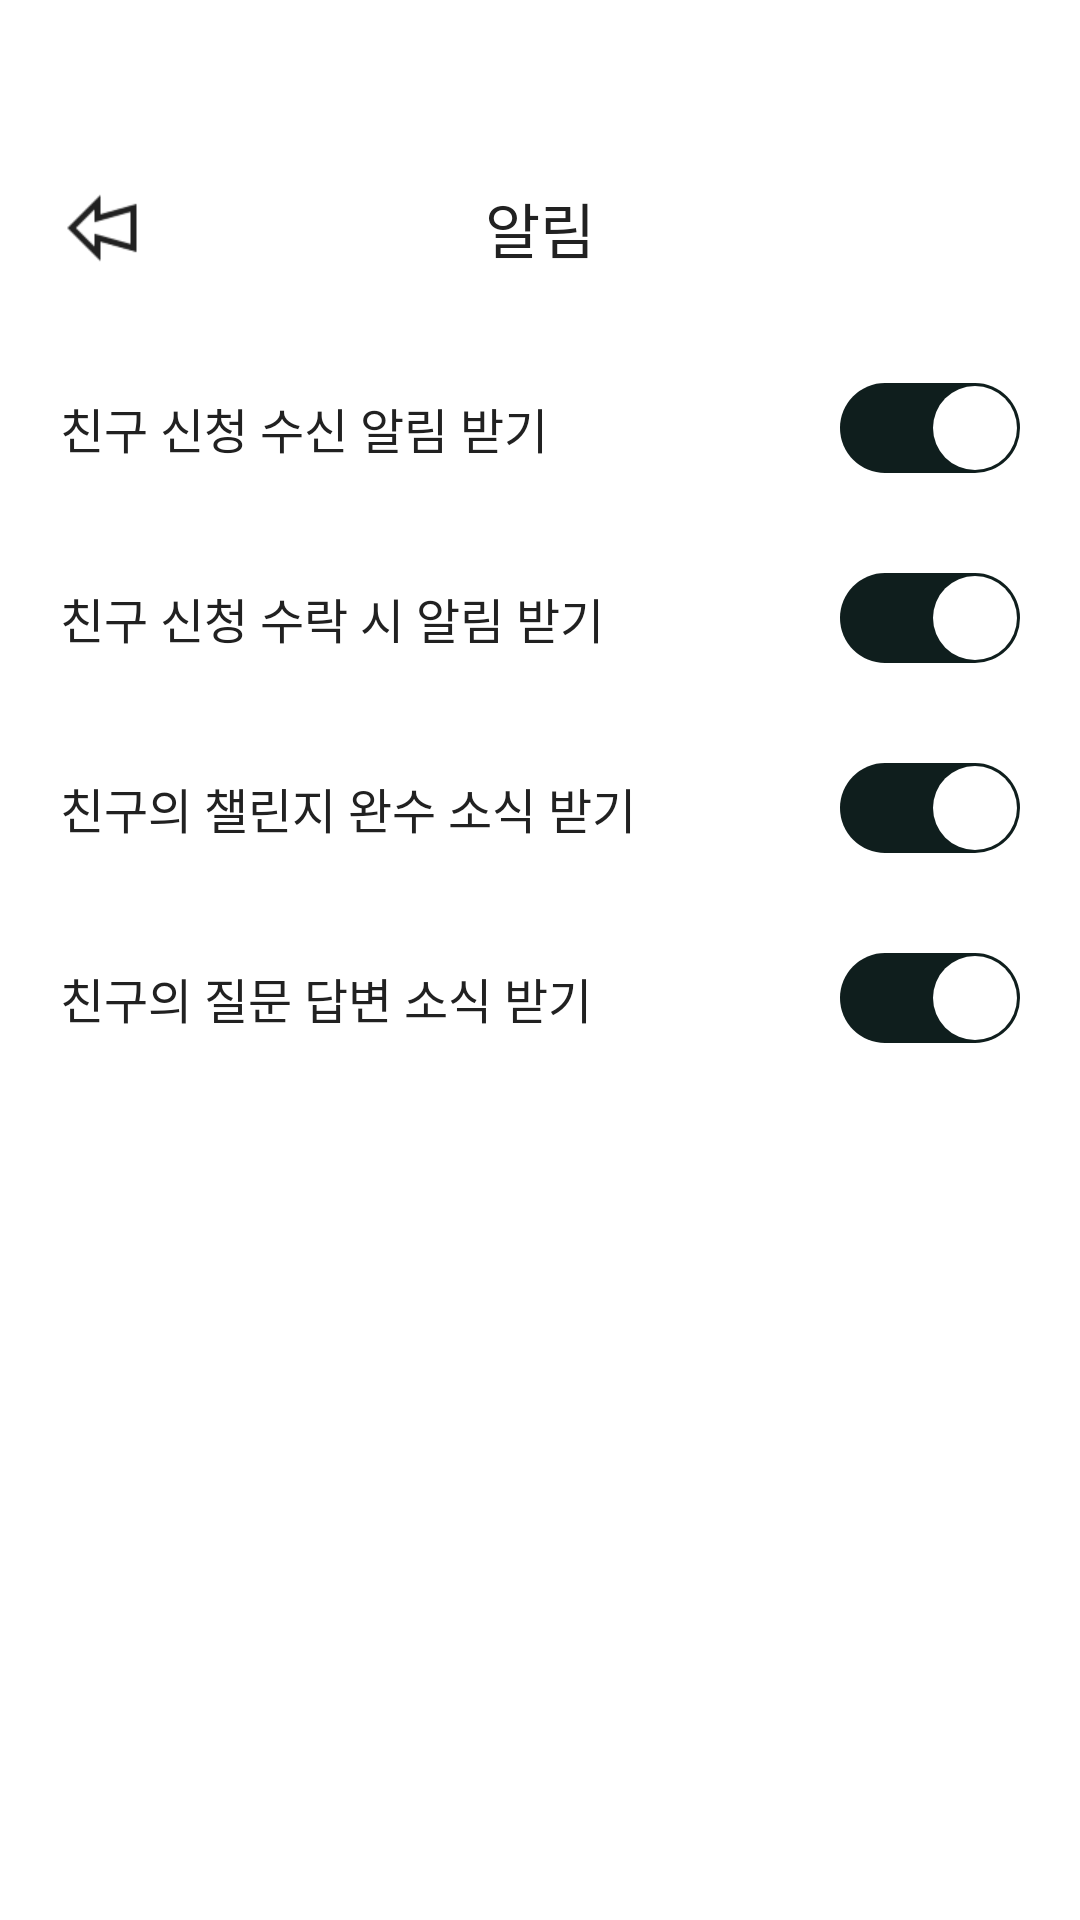

Where icons sit on this 1080 x 1920 app screen, as bbox(x1, y1, x2, y2):
arrow left: bbox(67, 195, 137, 261)
